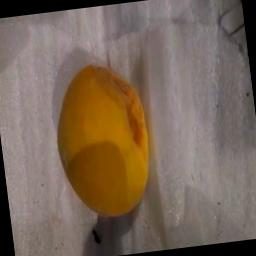Peach Rotten: (46, 54, 162, 219)
